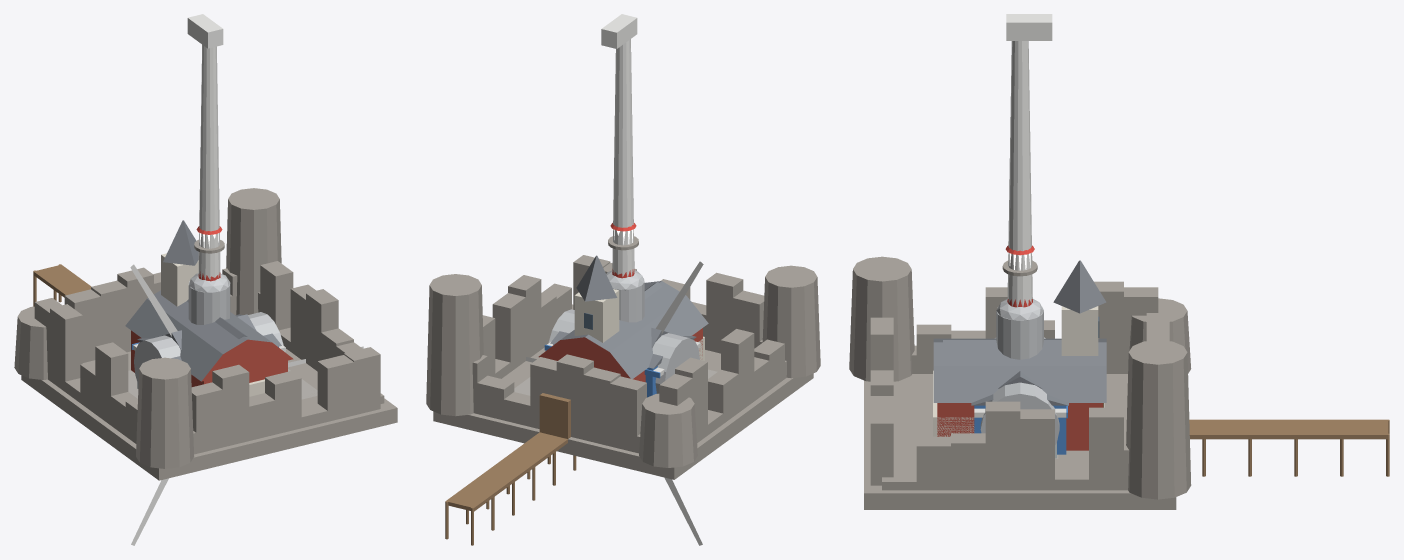
File: buildings.glb
The picture shows the model from 3 angles, left to right: view 1: azimuth 30°, elevation 25°; view 2: azimuth 150°, elevation 25°; view 3: azimuth 270°, elevation 25°; orthographic projection. The views are drawn at different scales.
Visible parts, largest first — view 1: CastleRuin, Barn, WindTurbine, Church, Silo, Diner, Pier, TurbineRotor, GasStation, Lighthouse; view 2: CastleRuin, Barn, WindTurbine, Pier, Church, Diner, Silo, TurbineRotor, GasStation, Lighthouse, Warehouse; view 3: CastleRuin, Barn, WindTurbine, Pier, Church, Silo, Diner, GasStation, Warehouse, Lighthouse.
Part boxes in pixels (<box>): CastleRuin: <box>14,188,397,480</box>; Barn: <box>125,290,293,386</box>; WindTurbine: <box>187,14,223,279</box>; Church: <box>161,220,247,338</box>; Silo: <box>188,273,230,324</box>; Diner: <box>134,312,283,389</box>; Pier: <box>33,264,91,306</box>; TurbineRotor: <box>130,264,363,545</box>; GasStation: <box>128,342,317,399</box>; Lighthouse: <box>194,226,224,281</box>; CastleRuin: <box>426,255,820,479</box>; Barn: <box>538,281,708,382</box>; WindTurbine: <box>601,14,637,276</box>; Pier: <box>445,432,576,545</box>; Church: <box>574,255,662,342</box>; Diner: <box>548,309,699,393</box>; Silo: <box>606,270,644,322</box>; TurbineRotor: <box>526,261,703,545</box>; GasStation: <box>514,336,717,395</box>; Lighthouse: <box>608,223,638,278</box>; Warehouse: <box>550,331,696,397</box>; CastleRuin: <box>849,256,1191,509</box>; Barn: <box>933,338,1106,450</box>; WindTurbine: <box>1006,14,1052,307</box>; Pier: <box>1189,419,1389,476</box>; Church: <box>943,260,1106,355</box>; Silo: <box>996,299,1043,359</box>; Diner: <box>980,337,1059,458</box>; GasStation: <box>933,370,1067,436</box>; Warehouse: <box>971,394,1068,454</box>; Lighthouse: <box>1002,245,1037,307</box>.
Bounding box in the file's own units: 40.6 × 68.33 × 58.8.
